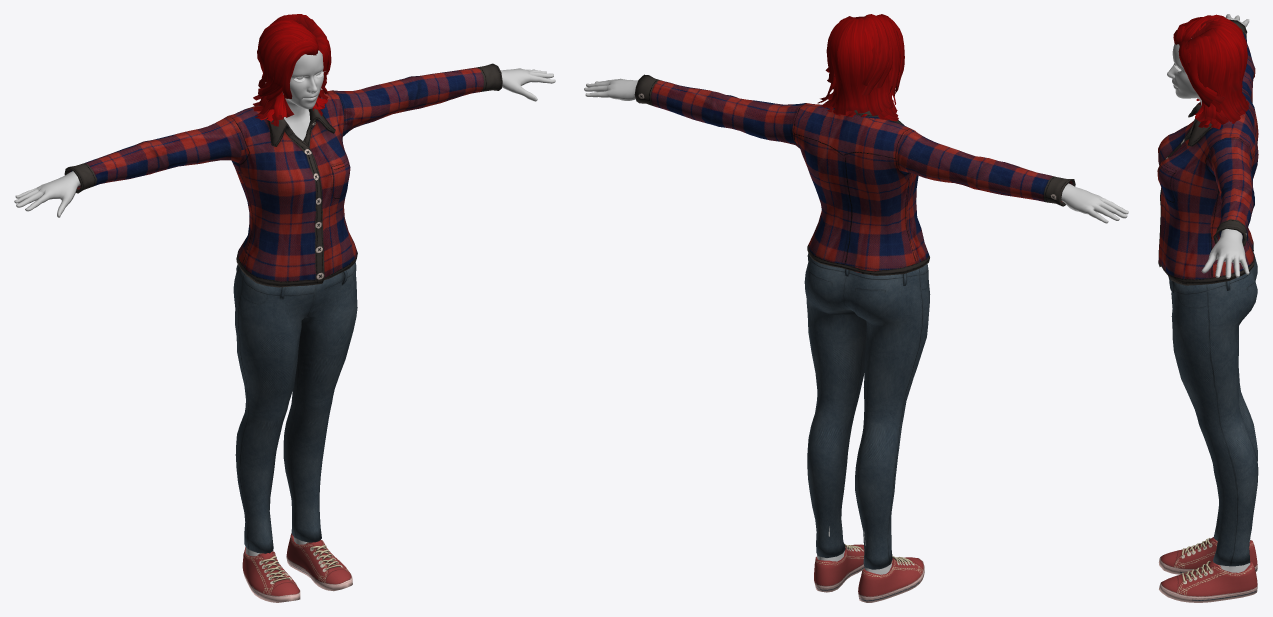
The model's file is sixth_clothes_hair.obj.
3 renders of one model, left to right at view 1: azimuth 30°, elevation 25°; view 2: azimuth 150°, elevation 25°; view 3: azimuth 270°, elevation 25°, orthographic.
Visible parts, largest first — view 1: Tops, Bottoms, Hair, Body, Shoes; view 2: Tops, Bottoms, Hair, Shoes, Body; view 3: Bottoms, Tops, Hair, Shoes, Body.
Boxes of the visible parts, left/top/right/bottom form: Tops: left=64, top=63, right=502, bottom=287; Bottoms: left=233, top=262, right=357, bottom=553; Hair: left=253, top=14, right=331, bottom=126; Body: left=14, top=50, right=555, bottom=556; Shoes: left=242, top=533, right=352, bottom=602; Tops: left=634, top=74, right=1075, bottom=275; Bottoms: left=804, top=253, right=930, bottom=569; Hair: left=817, top=14, right=904, bottom=121; Shoes: left=814, top=544, right=924, bottom=602; Body: left=584, top=78, right=1128, bottom=574; Bottoms: left=1168, top=253, right=1258, bottom=566; Tops: left=1157, top=19, right=1258, bottom=285; Hair: left=1173, top=14, right=1248, bottom=129; Shoes: left=1158, top=537, right=1257, bottom=602; Body: left=1167, top=14, right=1250, bottom=572.
Bounding box in the file's own units: 17.95 × 17.93 × 2.92.
